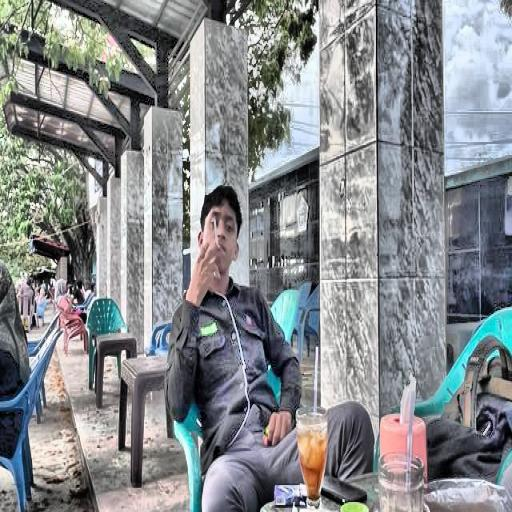Rokok: (186, 201, 239, 304)
